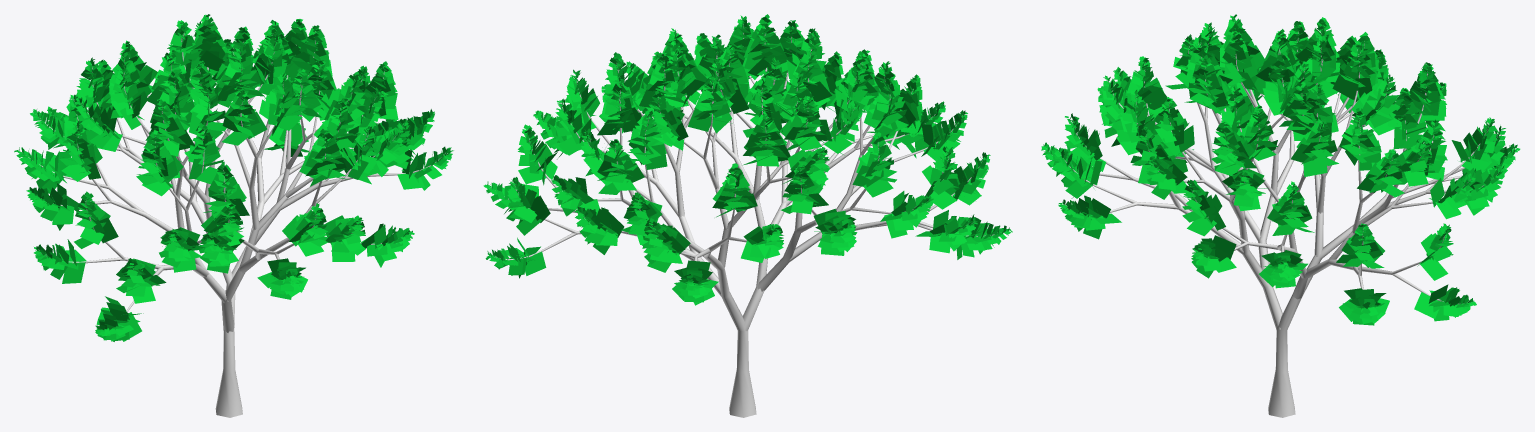
The model's file is tree.fbx.
The picture shows the model from 3 angles, left to right: view 1: azimuth 30°, elevation 25°; view 2: azimuth 150°, elevation 25°; view 3: azimuth 270°, elevation 25°; orthographic projection.
Parts seen in each view (by area): view 1: leaves, tree; view 2: leaves, tree; view 3: leaves, tree.
Part boxes in pixels (x1,y1,x2,y2): leaves: (14, 14, 453, 341); tree: (28, 25, 447, 417); leaves: (483, 14, 1012, 305); tree: (490, 24, 994, 417); leaves: (1041, 14, 1520, 325); tree: (1049, 20, 1510, 417).
Size of the model in its own units: 402 by 415 by 338.
